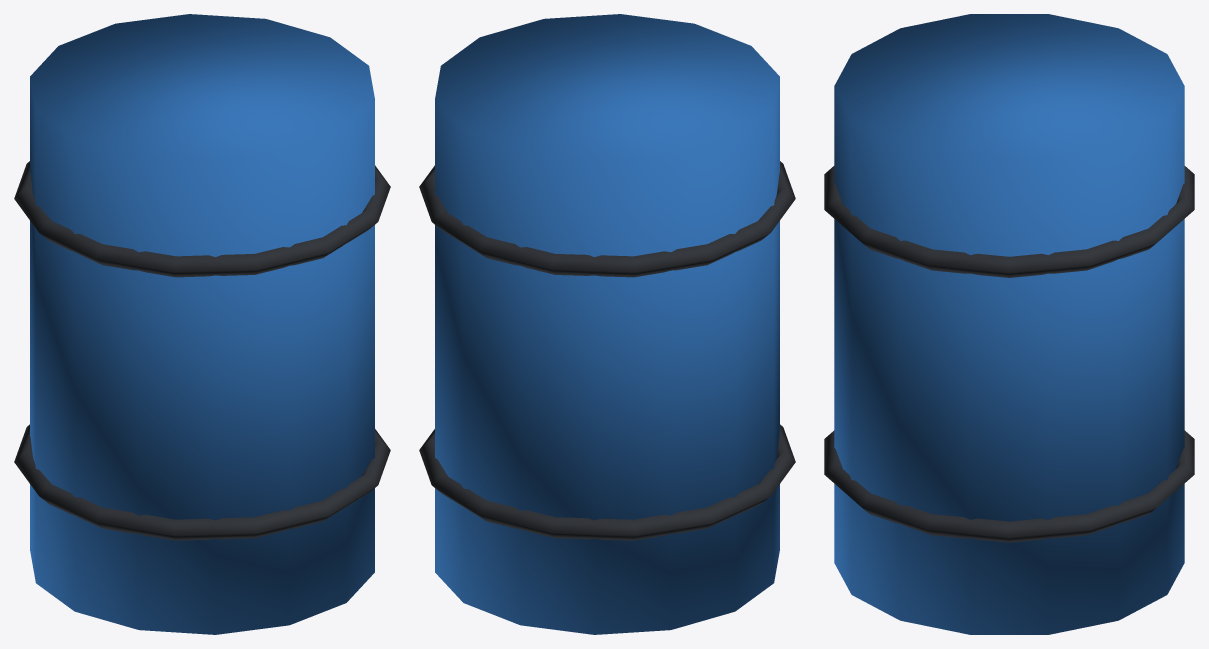
File: prop_tong_biru.glb
3 renders of one model, left to right at view 1: azimuth 30°, elevation 25°; view 2: azimuth 150°, elevation 25°; view 3: azimuth 270°, elevation 25°, orthographic.
Parts seen in each view (by area): view 1: tong_biru; view 2: tong_biru; view 3: tong_biru.
Part boxes in pixels (x1,y1,x2,y2): tong_biru: (14,14,390,634); tong_biru: (419,14,795,634); tong_biru: (824,14,1194,634).
Bounding box in the file's own units: 0.65 × 0.9 × 0.6337.
